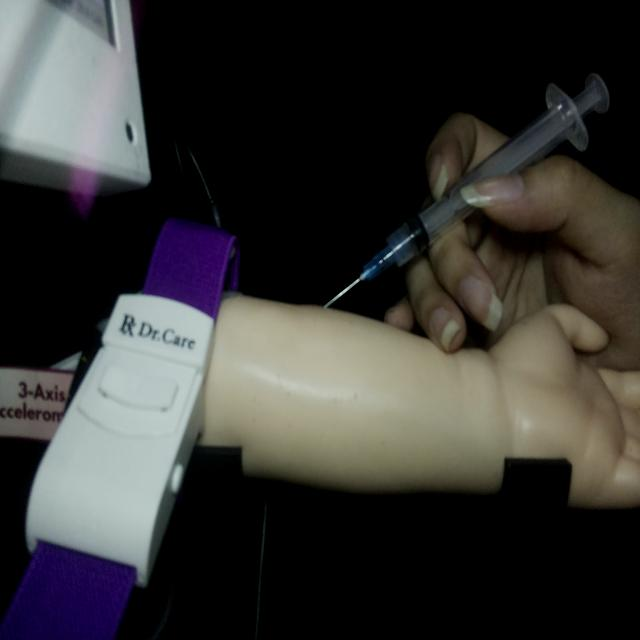28 degrees: (321, 68, 611, 311)
